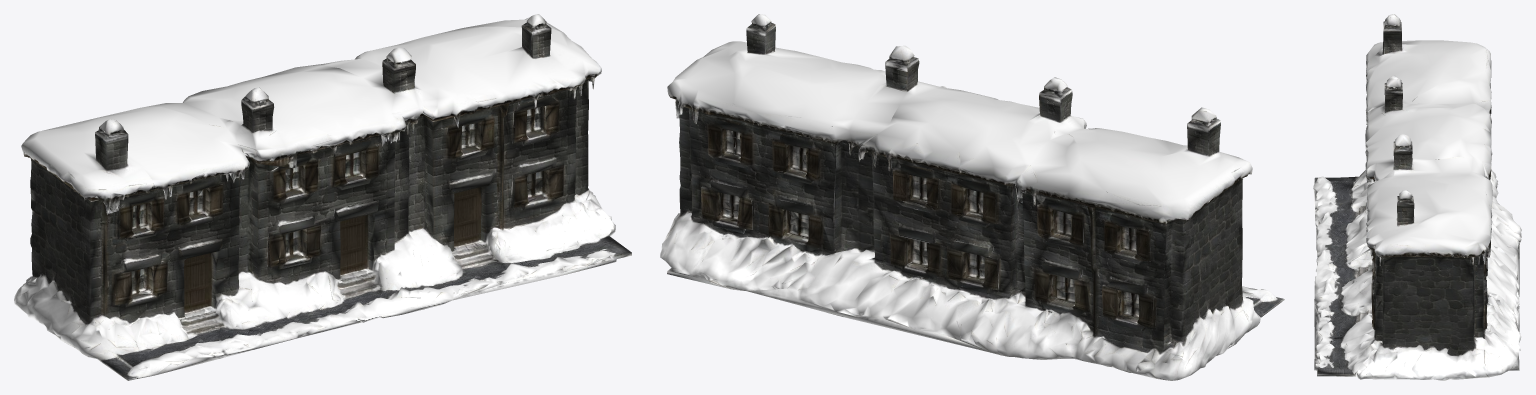
The model's file is city_erzurum_stone_houses.glb.
The picture shows the model from 3 angles, left to right: view 1: azimuth 30°, elevation 25°; view 2: azimuth 150°, elevation 25°; view 3: azimuth 270°, elevation 25°; orthographic projection. The views are drawn at different scales.
Parts seen in each view (by area): view 1: Mesh1.0; view 2: Mesh1.0; view 3: Mesh1.0.
Boxes of the visible parts, bbox=[...] form: Mesh1.0: bbox=[14, 14, 631, 380]; Mesh1.0: bbox=[660, 14, 1284, 380]; Mesh1.0: bbox=[1313, 14, 1521, 380].
Size of the model in its own units: 32.99 by 13 by 13.92.
1 material, 1 textured.
